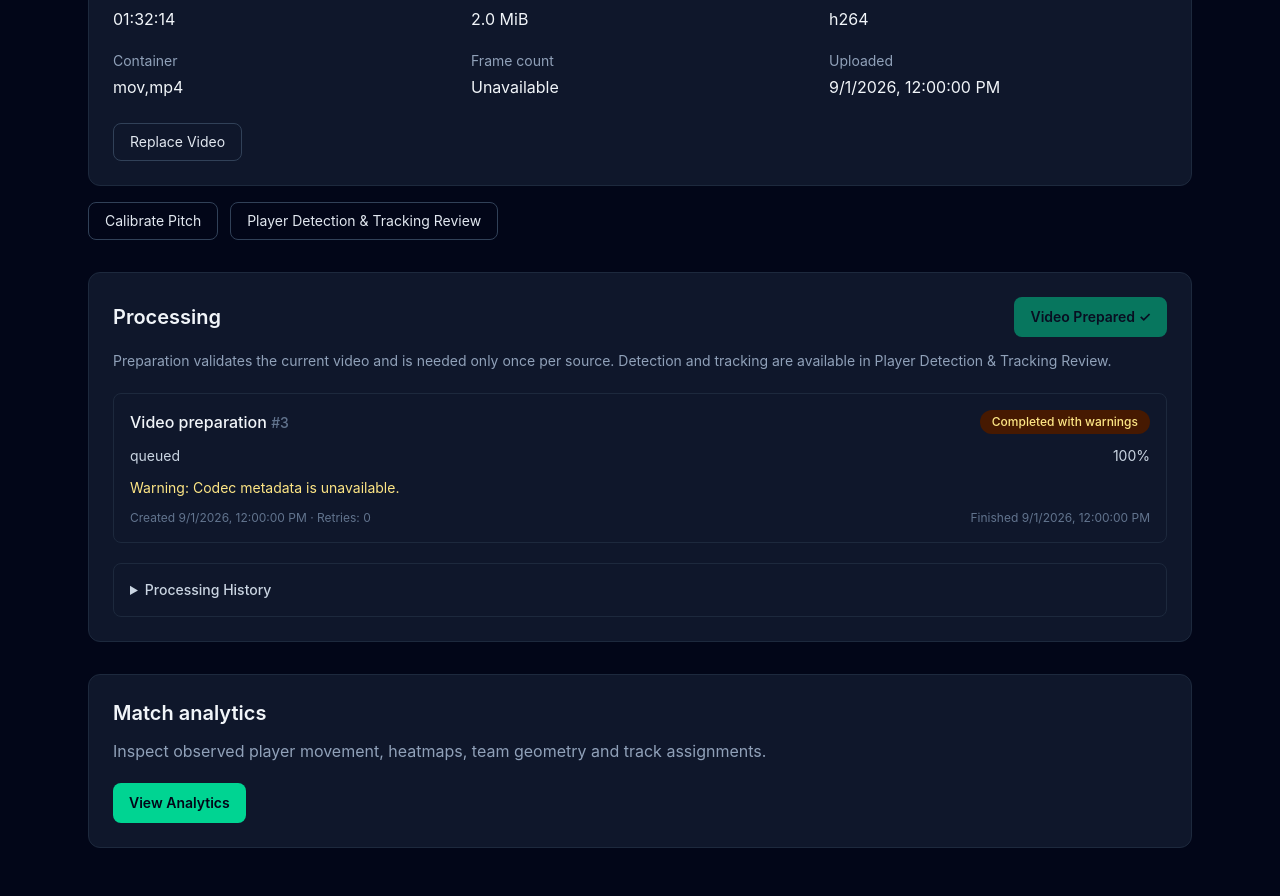
Test: processing jobs › shows terminal warnings and hides retry for a replaced source video
(page scrolled)
Check: the text "Completed with warnings" is shown, box [980,410,1150,434]
Check: the text "Warning: Codec metadata is unavailable." is shown, box [130,479,399,496]
Click the heading "Processing History": (208,590) [145,581,271,598]
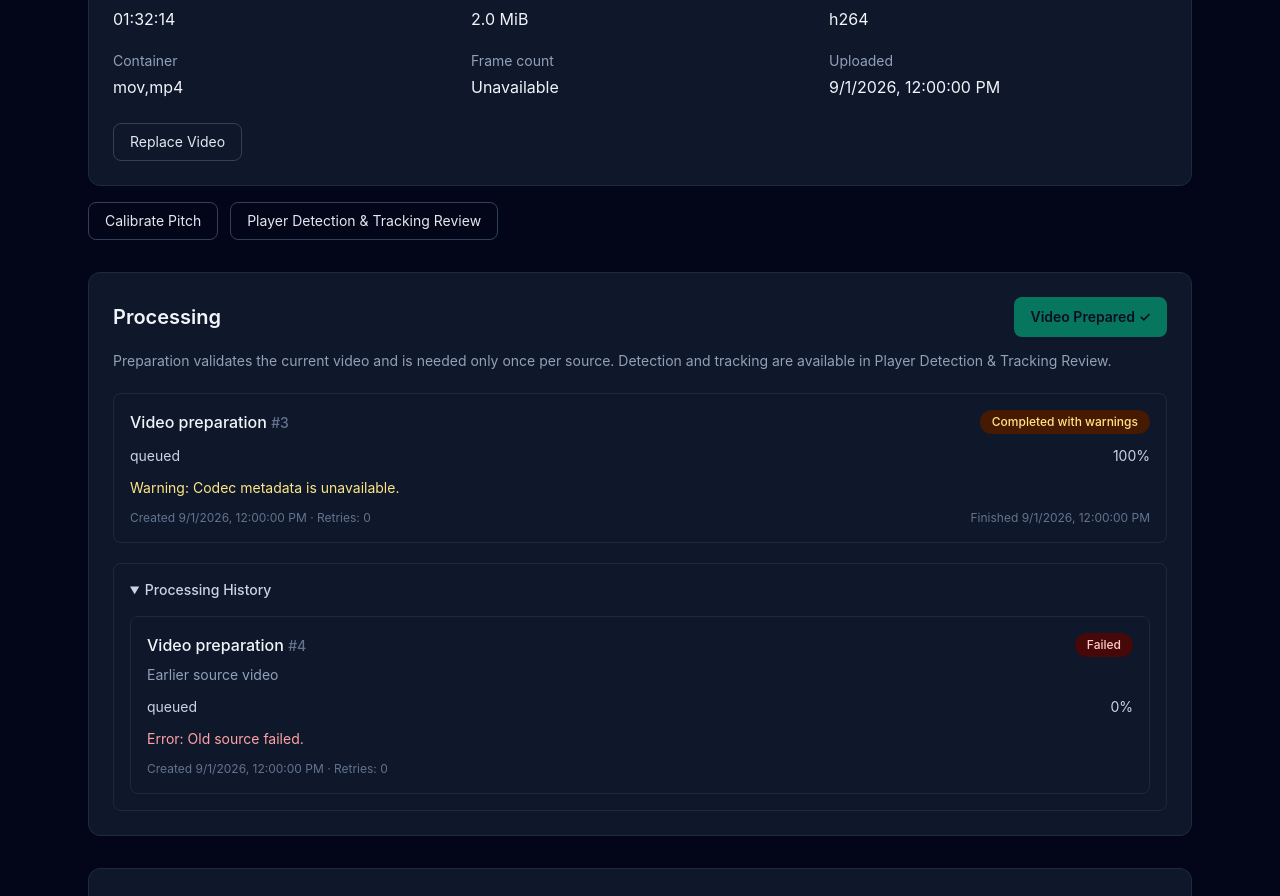
Check: the text "Earlier source video" is shown, box [147,666,278,683]
